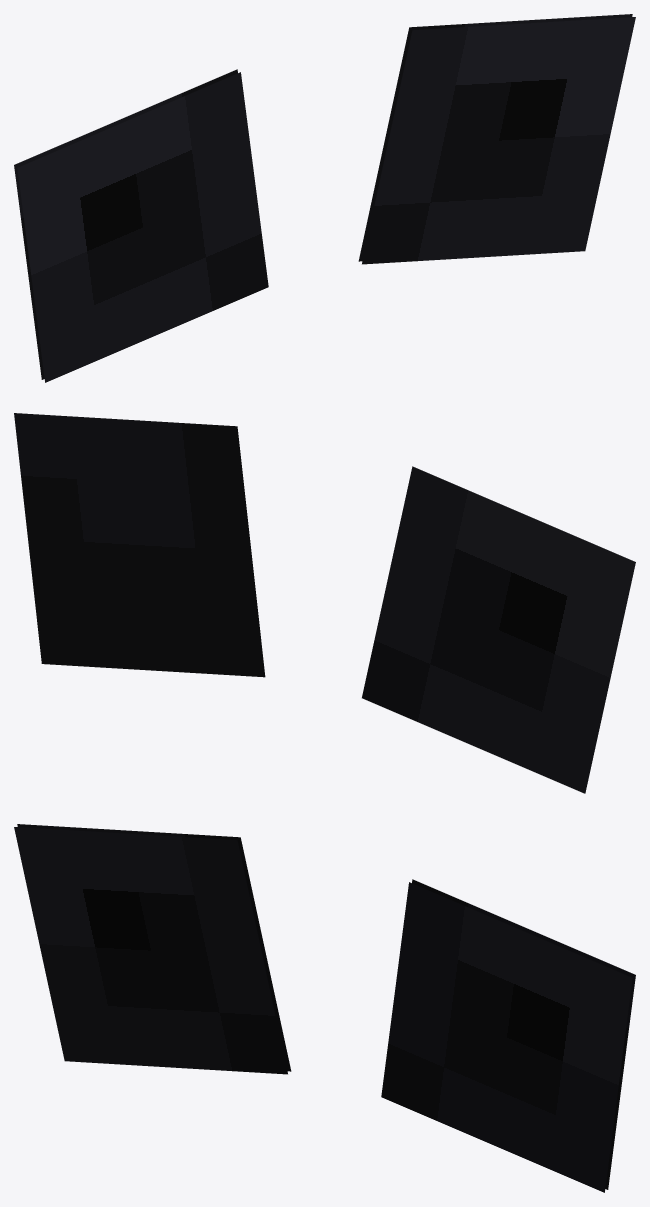
Rendered from sl_panda_ears.glb.
3 views of the same model, one above another, from view 1: azimuth 30°, elevation 25°; view 2: azimuth 150°, elevation 25°; view 3: azimuth 330°, elevation 25° (orthographic).
Parts seen in each view (by area): view 1: bb_panda_ears; view 2: bb_panda_ears; view 3: bb_panda_ears.
Part boxes in pixels (x1,y1,x2,y2): bb_panda_ears: [14, 14, 635, 382]; bb_panda_ears: [14, 413, 635, 793]; bb_panda_ears: [14, 824, 635, 1192].
Size of the model in its own units: 0.6815 by 0.2892 by 0.028.
Materials: 1 (1 with a texture image).
